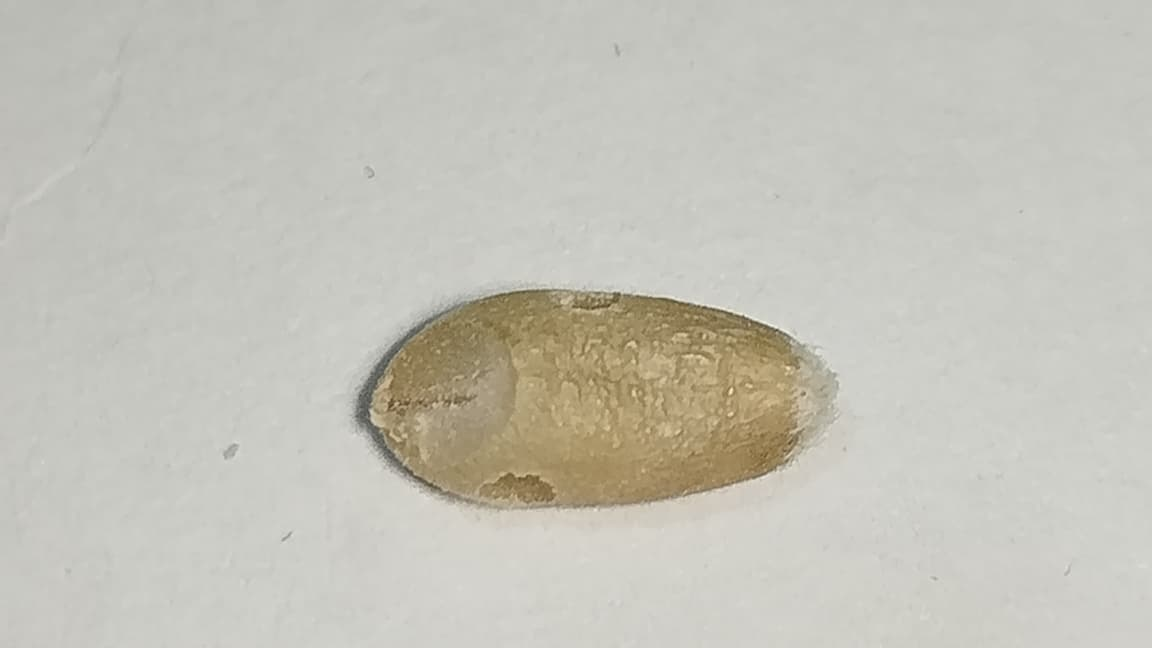damage: (371, 290, 836, 505)
insectdamage: (369, 287, 636, 527)
